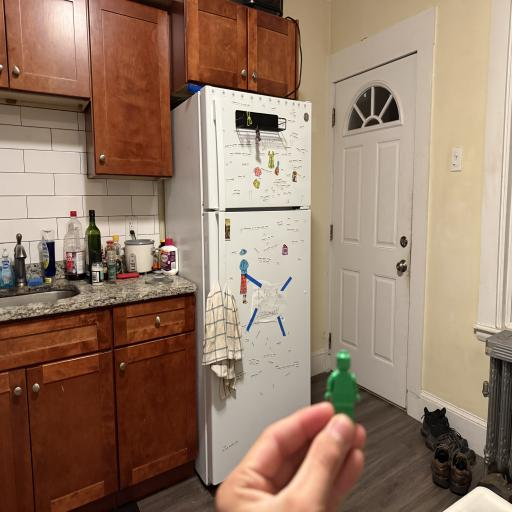Minifig: (325, 350, 359, 420)
